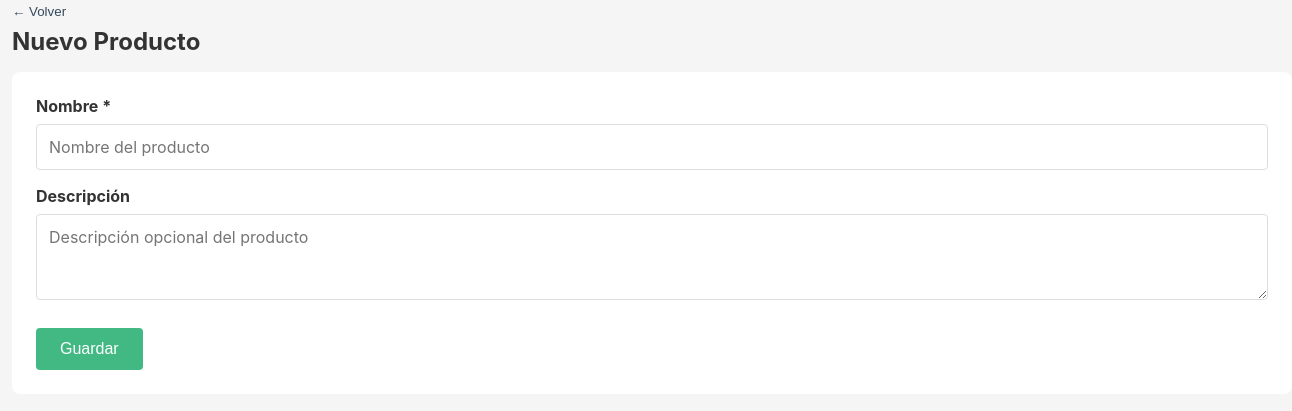
Scenario: ProductoForm › should disable submit button while saving
Type "Test" into the field with id "nombre" at (652, 147), box [36,124,1268,170]
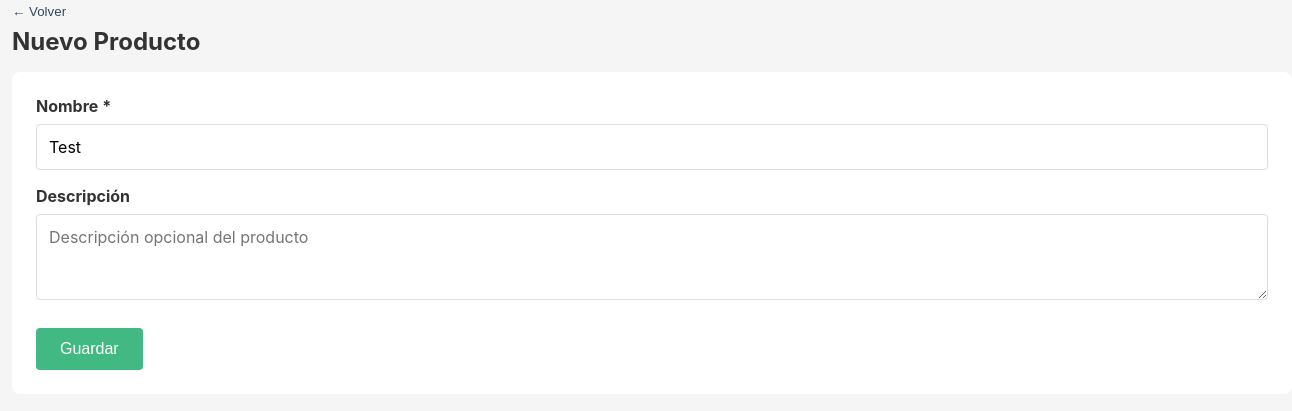
Submit the form
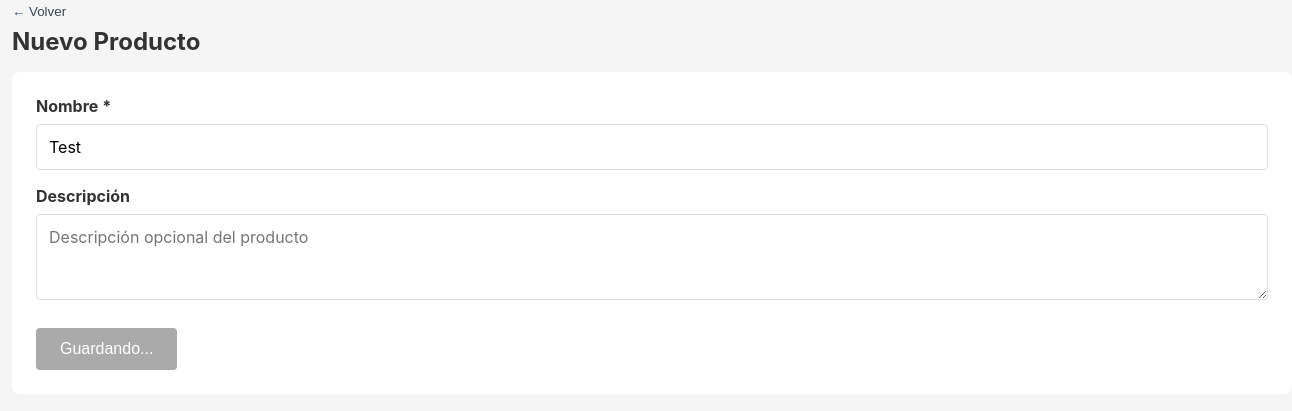
expect the submit button is disabled: met, box [36,328,177,370]
expect the submit button reads "Guardando...": met, box [36,328,177,370]
